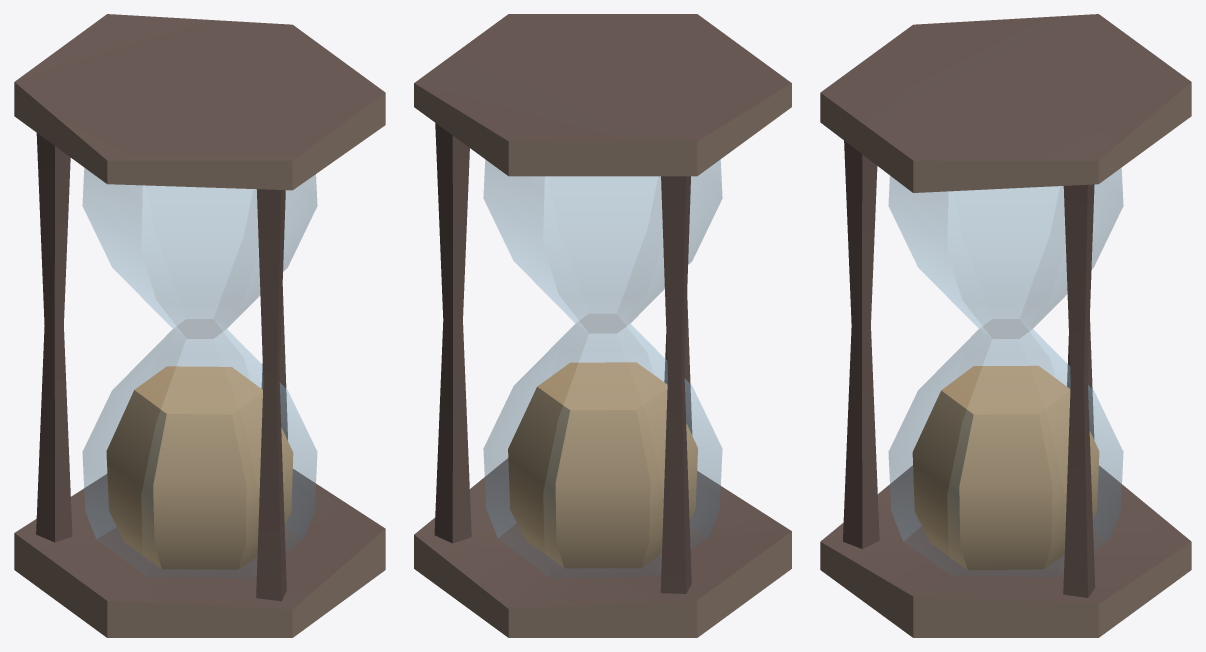
The model's file is hourglass.glb.
3 views of the same model, side by side, from view 1: azimuth 30°, elevation 25°; view 2: azimuth 150°, elevation 25°; view 3: azimuth 270°, elevation 25° (orthographic).
Parts seen in each view (by area): view 1: hourglass, hourglass_glass; view 2: hourglass, hourglass_glass; view 3: hourglass, hourglass_glass.
Boxes of the visible parts, bbox=[...] form: hourglass: bbox=[14, 14, 385, 637]; hourglass_glass: bbox=[82, 168, 317, 578]; hourglass: bbox=[414, 14, 791, 637]; hourglass_glass: bbox=[483, 160, 722, 577]; hourglass: bbox=[820, 14, 1191, 637]; hourglass_glass: bbox=[888, 168, 1123, 577].
Bounding box in the file's own units: 0.164 × 0.2747 × 0.1894.
Materials: 2 (1 with a texture image).
